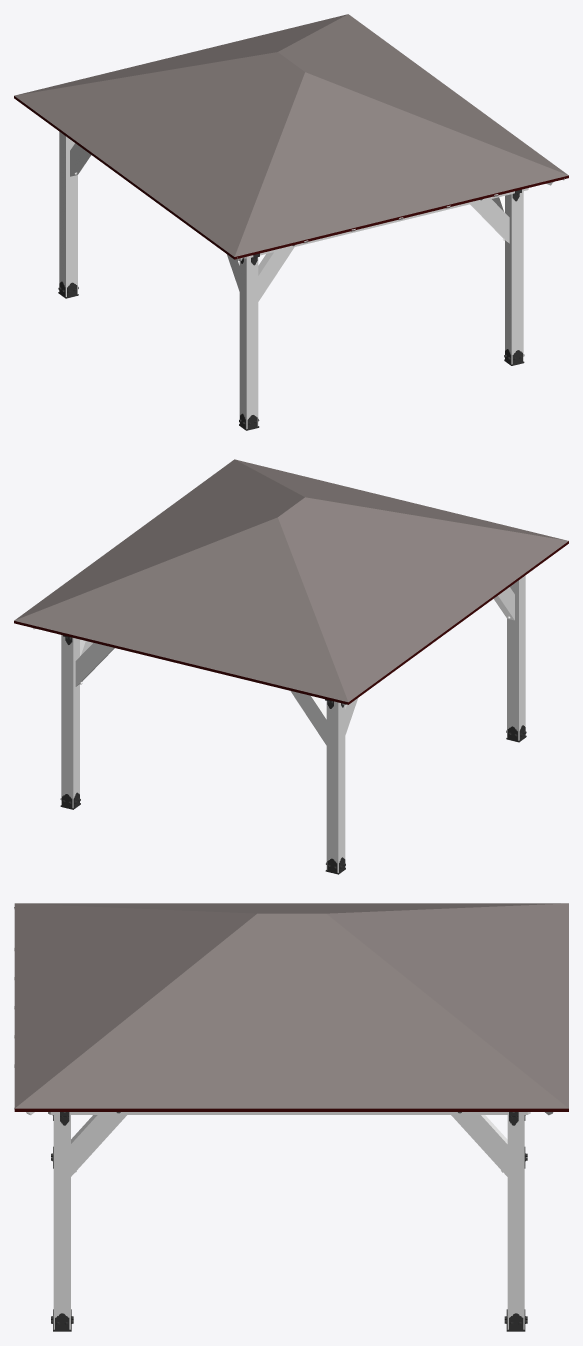
File: saratoga-14x16-cove.obj
3 views of the same model, one above another, from view 1: azimuth 30°, elevation 25°; view 2: azimuth 150°, elevation 25°; view 3: azimuth 270°, elevation 25° (orthographic). The views are drawn at different scales.
Visible parts, largest first — view 1: Mesh228 shingles roof Group1 Model, Mesh179 Group73 Component_92_4 Group2 Group1 Model, Mesh81 Group45 Component_92_2 Group2 Group1 Model, Mesh130 Group59 Component_92_3 Group2 Group1 Model, Mesh229 roof Group1 Model, Mesh219 Component_91_7 Component_92_4 Group2 Group1 Model, Mesh121 Component_91_3 Component_92_2 Group2 Group1 Model, Mesh77 Component_135_1 Group2 Group1 Model; view 2: Mesh228 shingles roof Group1 Model, Mesh130 Group59 Component_92_3 Group2 Group1 Model, Mesh1 Group4 Component_92_1 Group3 Group2 Group1 Model, Mesh179 Group73 Component_92_4 Group2 Group1 Model, Mesh229 roof Group1 Model, Mesh170 Component_91_5 Component_92_3 Group2 Group1 Model, Mesh41 Component_91_1 Component_92_1 Group3 Group2 Group1 Model; view 3: Mesh228 shingles roof Group1 Model, Mesh81 Group45 Component_92_2 Group2 Group1 Model, Mesh1 Group4 Component_92_1 Group3 Group2 Group1 Model, Mesh229 roof Group1 Model, Mesh45 Component_91_2 Component_92_1 Group3 Group2 Group1 Model, Mesh125 Component_91_4 Component_92_2 Group2 Group1 Model, Mesh80 Component_134_2 Group2 Group1 Model.
Part boxes in pixels (x1,y1,x2,y2): Mesh228 shingles roof Group1 Model: (14,14,568,256); Mesh179 Group73 Component_92_4 Group2 Group1 Model: (239,257,258,429); Mesh81 Group45 Component_92_2 Group2 Group1 Model: (505,191,523,364); Mesh130 Group59 Component_92_3 Group2 Group1 Model: (59,132,77,296); Mesh229 roof Group1 Model: (14,96,568,259); Mesh219 Component_91_7 Component_92_4 Group2 Group1 Model: (258,247,294,301); Mesh121 Component_91_3 Component_92_2 Group2 Group1 Model: (470,199,509,243); Mesh77 Component_135_1 Group2 Group1 Model: (243,188,528,258); Mesh228 shingles roof Group1 Model: (14,459,568,702); Mesh130 Group59 Component_92_3 Group2 Group1 Model: (326,701,345,872); Mesh1 Group4 Component_92_1 Group3 Group2 Group1 Model: (61,635,79,807); Mesh179 Group73 Component_92_4 Group2 Group1 Model: (507,575,525,740); Mesh229 roof Group1 Model: (14,541,568,704); Mesh170 Component_91_5 Component_92_3 Group2 Group1 Model: (290,691,326,745); Mesh41 Component_91_1 Component_92_1 Group3 Group2 Group1 Model: (75,643,114,686); Mesh228 shingles roof Group1 Model: (14,903,568,1108); Mesh81 Group45 Component_92_2 Group2 Group1 Model: (53,1115,70,1329); Mesh1 Group4 Component_92_1 Group3 Group2 Group1 Model: (507,1115,524,1329); Mesh229 roof Group1 Model: (14,1108,568,1111); Mesh45 Component_91_2 Component_92_1 Group3 Group2 Group1 Model: (451,1115,507,1176); Mesh125 Component_91_4 Component_92_2 Group2 Group1 Model: (71,1115,126,1176); Mesh80 Component_134_2 Group2 Group1 Model: (59,1112,518,1114).
Bounding box in the file's own units: 169 × 128 × 193.
